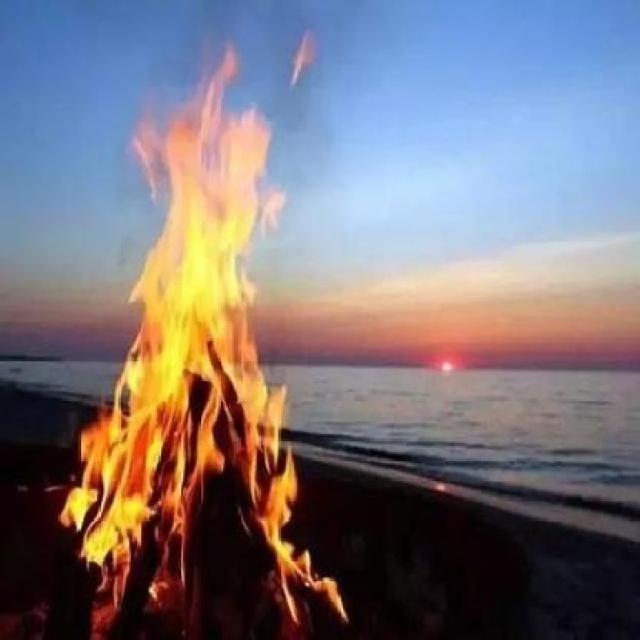Fire: (59, 38, 348, 628)
